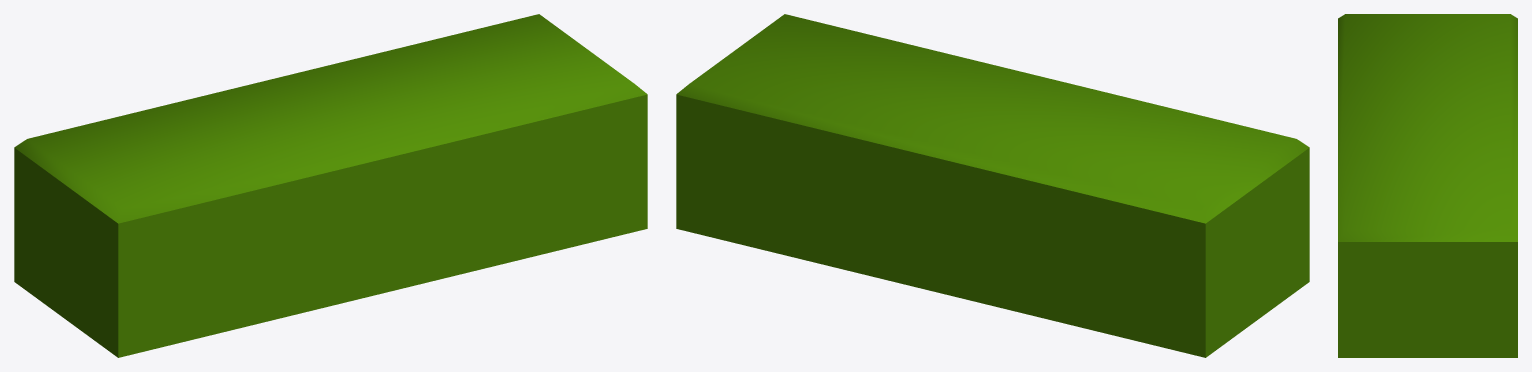
File: Grass 01.FBX
3 renders of one model, left to right at view 1: azimuth 30°, elevation 25°; view 2: azimuth 150°, elevation 25°; view 3: azimuth 270°, elevation 25°, orthographic. The views are drawn at different scales.
Visible parts, largest first — view 1: Box001; view 2: Box001; view 3: Box001.
Part boxes in pixels (<box>): Box001: <box>14,14,647,357</box>; Box001: <box>676,14,1309,357</box>; Box001: <box>1338,14,1517,357</box>.
Bounding box in the file's own units: 45.23 × 11.74 × 15.4.
